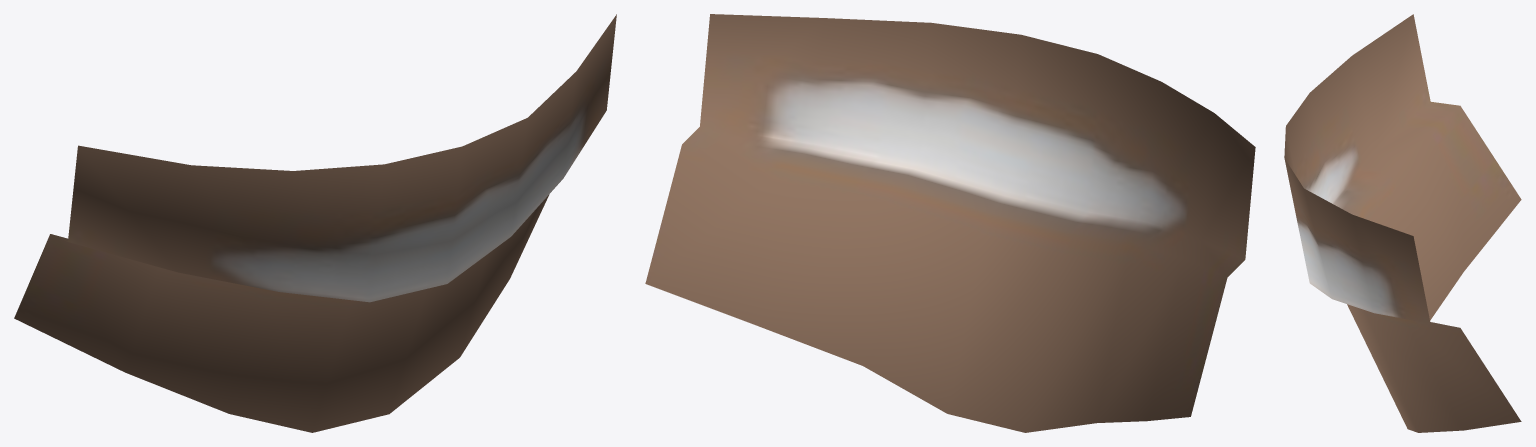
File: ARM1_Teeth_A01.glb
3 views of the same model, side by side, from view 1: azimuth 30°, elevation 25°; view 2: azimuth 150°, elevation 25°; view 3: azimuth 270°, elevation 25° (orthographic). The views are drawn at different scales.
Visible parts, largest first — view 1: ARM1_Tees_A01; view 2: ARM1_Tees_A01; view 3: ARM1_Tees_A01.
Part boxes in pixels (bbox=[...]): ARM1_Tees_A01: bbox=[14, 14, 616, 432]; ARM1_Tees_A01: bbox=[645, 14, 1255, 432]; ARM1_Tees_A01: bbox=[1284, 14, 1521, 432].
Size of the model in its own units: 0.2692 by 0.1629 by 0.1215.
Materials: 1 (1 with a texture image).
